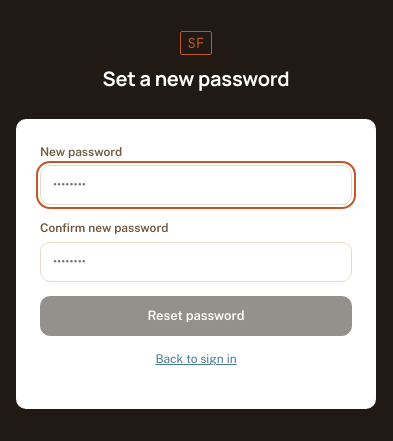
Test: ResetPasswordPage › shows the real strength meter as the password is typed
Step 1. Type "weak" into the password field labelled "New password" → (196, 185), box [40, 165, 352, 205]
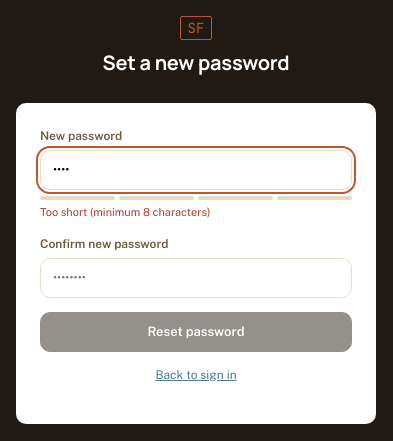
Expected: the text "Too short (minimum 8 characters)" is shown, [40, 206, 210, 218]
